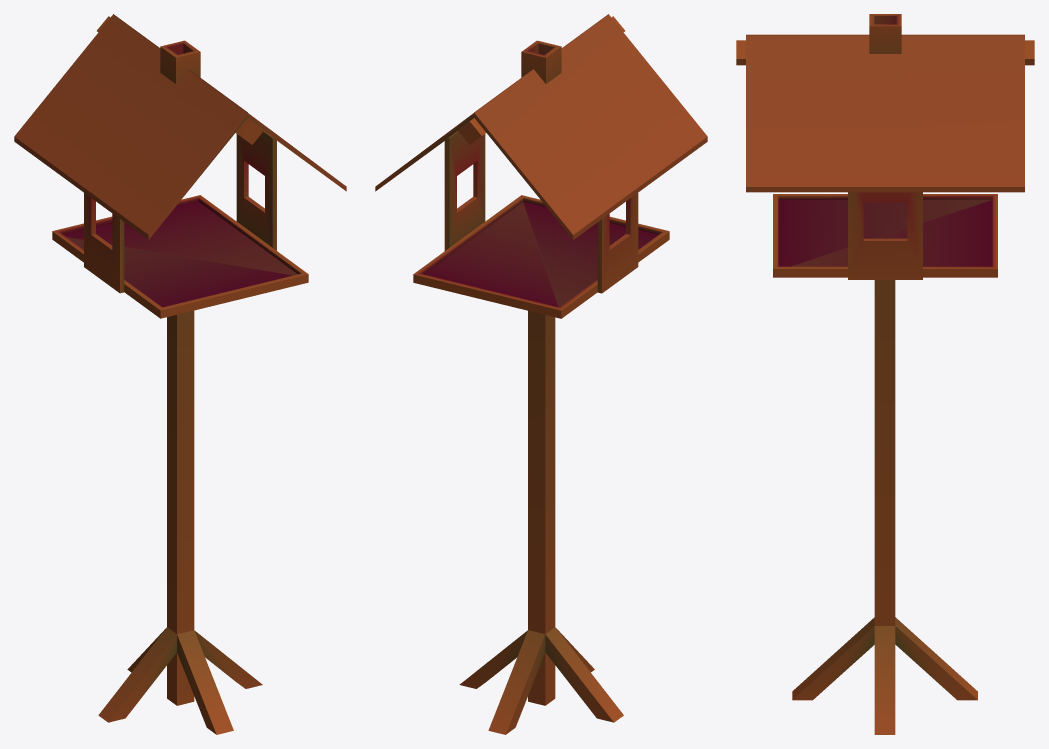
3 views of the same model, side by side, from view 1: azimuth 30°, elevation 25°; view 2: azimuth 150°, elevation 25°; view 3: azimuth 270°, elevation 25° (orthographic). The views are drawn at different scales.
Visible parts, largest first — view 1: roof_panel.001, tray_floor, post, support, foot.003, support.001, foot.001, ridge_projection, foot, roof_panel; view 2: roof_panel.001, tray_floor, post, support, support.001, foot.002, foot.001, ridge_projection, foot, roof_panel; view 3: roof_panel, tray_floor, post, support, foot, foot.002, foot.003, ridge_projection, ridge_beam.
Part boxes in pixels (<box>): roof_panel.001: <box>14,14,247,239</box>; tray_floor: <box>52,195,308,318</box>; post: <box>167,310,194,705</box>; support: <box>236,131,276,250</box>; foot.003: <box>177,630,233,734</box>; support.001: <box>84,193,124,293</box>; foot.001: <box>98,627,176,722</box>; ridge_projection: <box>160,40,200,83</box>; foot: <box>194,630,262,688</box>; roof_panel: <box>113,14,346,191</box>; roof_panel.001: <box>474,14,707,239</box>; tray_floor: <box>413,195,669,318</box>; post: <box>528,311,555,705</box>; support: <box>444,131,485,250</box>; support.001: <box>597,193,638,293</box>; foot.002: <box>488,630,545,734</box>; foot.001: <box>545,627,623,722</box>; ridge_projection: <box>521,40,561,83</box>; foot: <box>459,630,527,688</box>; roof_panel: <box>375,14,608,191</box>; roof_panel: <box>746,34,1024,192</box>; tray_floor: <box>773,194,997,277</box>; post: <box>874,280,895,625</box>; support: <box>848,192,922,279</box>; foot: <box>874,626,895,734</box>; foot.002: <box>895,617,977,700</box>; foot.003: <box>792,617,874,700</box>; ridge_projection: <box>869,14,901,53</box>; ridge_beam: <box>736,40,1034,65</box>.
Size of the model in its own units: 0.573 by 1.8 by 0.72.
